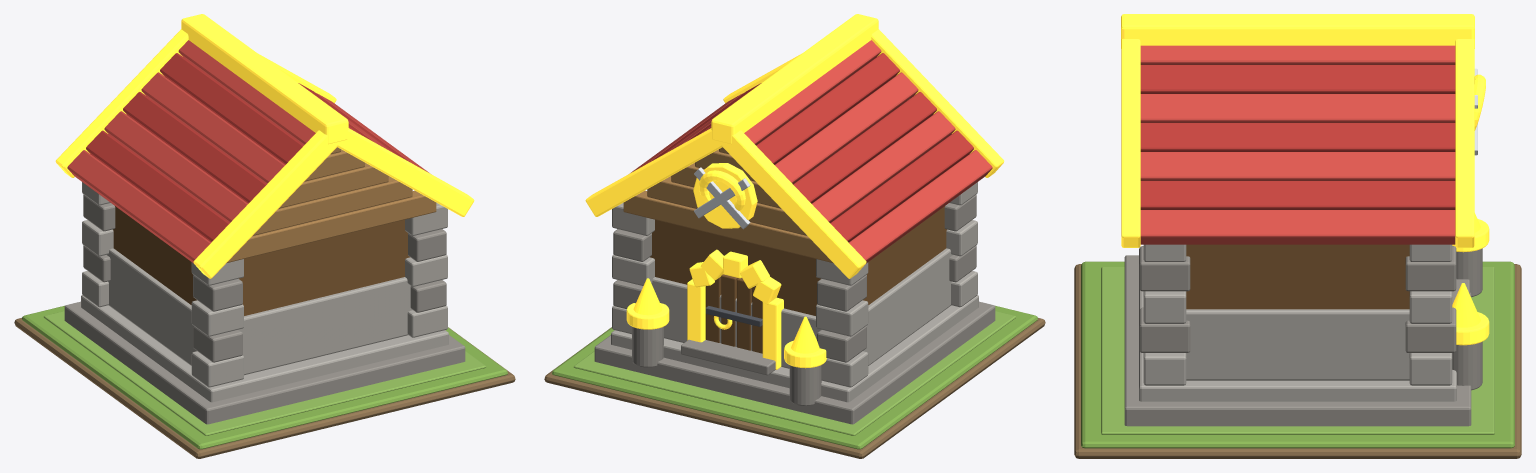
The model's file is hero_hall.glb.
The picture shows the model from 3 angles, left to right: view 1: azimuth 30°, elevation 25°; view 2: azimuth 150°, elevation 25°; view 3: azimuth 270°, elevation 25°; orthographic projection. The views are drawn at different scales.
Visible parts, largest first — view 1: HeroStoneWainscot, HeroHallCore, HeroPlinth1, Base_Grass, HeroPlinth2, RidgeBeam, Base_Inner, Base_Dirt, Bargeboard_-1_-1, RoofSlope_-1_6, RoofSlope_-1_2, RoofSlope_-1_1 (+24 smaller); view 2: HeroHallCore, HeroPlinth1, HeroStoneWainscot, Base_Grass, RidgeBeam, Base_Inner, Base_Dirt, HeroPlinth2, Bargeboard_1_-1, RoofSlope_-1_6, RoofSlope_-1_2, RoofSlope_-1_1 (+44 smaller); view 3: HeroStoneWainscot, HeroHallCore, Base_Grass, HeroPlinth1, RidgeBeam, RoofSlope_1_6, Base_Inner, RoofSlope_1_1, RoofSlope_1_2, RoofSlope_1_3, RoofSlope_1_4, RoofSlope_1_5 (+20 smaller).
Boxes of the visible parts, <box> form: HeroStoneWainscot: <box>107,248,412,375</box>; HeroHallCore: <box>113,206,409,315</box>; HeroPlinth1: <box>64,301,465,424</box>; Base_Grass: <box>22,305,507,449</box>; HeroPlinth2: <box>81,295,448,402</box>; RidgeBeam: <box>181,14,348,144</box>; Base_Inner: <box>44,311,486,435</box>; Base_Dirt: <box>14,318,515,458</box>; Bargeboard_-1_-1: <box>193,130,337,278</box>; RoofSlope_-1_6: <box>67,150,210,263</box>; RoofSlope_-1_2: <box>141,72,284,183</box>; RoofSlope_-1_1: <box>160,53,303,164</box>; HeroHallCore: <box>650,206,946,315</box>; HeroPlinth1: <box>594,301,995,424</box>; HeroStoneWainscot: <box>652,248,952,368</box>; Base_Grass: <box>552,305,1037,449</box>; RidgeBeam: <box>711,14,878,144</box>; Base_Inner: <box>573,311,1015,435</box>; Base_Dirt: <box>544,318,1045,458</box>; HeroPlinth2: <box>611,295,978,402</box>; Bargeboard_1_-1: <box>718,130,866,278</box>; RoofSlope_-1_6: <box>849,150,992,263</box>; RoofSlope_-1_2: <box>775,72,918,183</box>; RoofSlope_-1_1: <box>756,53,899,164</box>; HeroStoneWainscot: <box>1186,309,1409,380</box>; HeroHallCore: <box>1186,244,1409,309</box>; Base_Grass: <box>1081,261,1514,448</box>; HeroPlinth1: <box>1124,255,1471,426</box>; RidgeBeam: <box>1121,14,1474,48</box>; RoofSlope_1_6: <box>1140,210,1455,244</box>; Base_Inner: <box>1101,267,1494,434</box>; RoofSlope_1_1: <box>1140,65,1455,93</box>; RoofSlope_1_2: <box>1140,94,1455,122</box>; RoofSlope_1_3: <box>1140,123,1455,151</box>; RoofSlope_1_4: <box>1140,152,1455,180</box>; RoofSlope_1_5: <box>1140,181,1455,209</box>.
Bounding box in the file's own units: 2.76 × 2.36 × 2.76.
